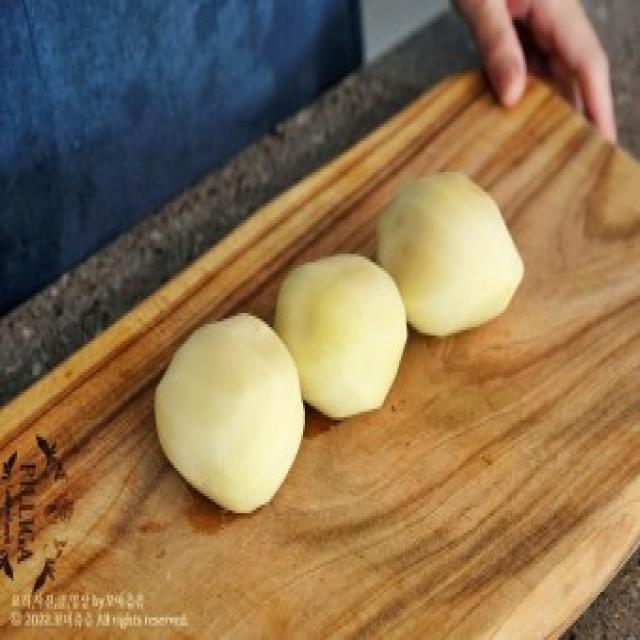potato: (155, 308, 306, 514), (376, 172, 532, 342), (268, 250, 409, 426)
